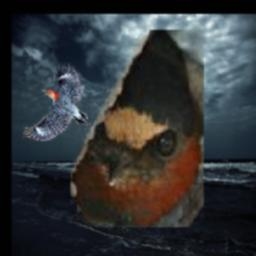Swallow: (71, 31, 204, 228)
Woodpecker: (22, 64, 88, 142)
